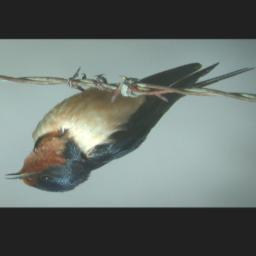Swallow: (4, 62, 256, 193)
